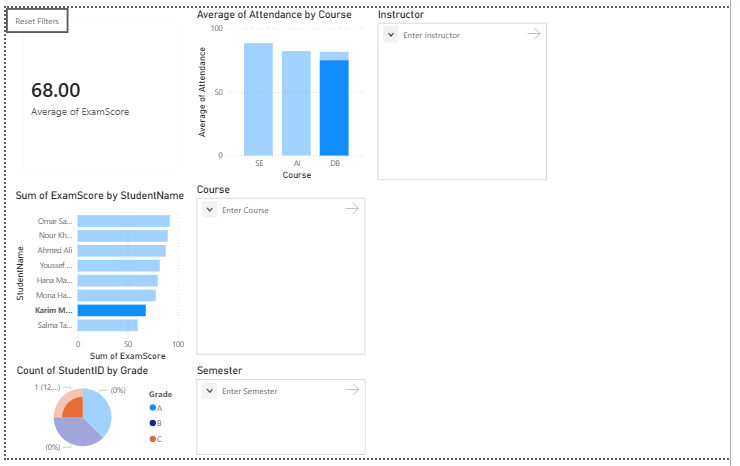

This screenshot's page, from the dashboard's own definition file:
{"tool":"powerbi","page":{"name":"Page 1","canvas":[1280,720],"ordinal":0},"visuals":[{"type":"cardVisual","fields":{"Data":["Avg(Data.ExamScore)"]},"box":[10,0,280,280],"z":0},{"type":"clusteredBarChart","fields":{"Category":["Data.StudentName"],"Y":["Sum(Data.ExamScore)"]},"box":[10,290,280,280],"z":1},{"type":"pieChart","fields":{"Category":["Data.Grade"],"Y":["CountNonNull(Data.StudentID)"]},"box":[11.9,569.5,279.7,150.8],"z":2},{"type":"clusteredColumnChart","fields":{"Category":["Data.Course"],"Y":["Avg(Data.Attendance)"]},"box":[300,0,280,280],"z":3},{"type":"textSlicer","fields":{"Values":["Data.Course"]},"box":[300,279.7,279.7,279.7],"z":4},{"type":"textSlicer","fields":{"Values":["Data.Semester"]},"box":[300,570,280,150],"z":5},{"type":"textSlicer","fields":{"Values":["Data.Instructor"]},"box":[590,0,280,280],"z":6},{"type":"actionButton","box":[0,0,100,40],"z":7}]}

Visuals, with their boxes on the page's 1280x720 design canvas (x1, y1, x2, y2). These are canvas units, not pixel positions in the 740x466 screenshot, which may show the page scaled, cropped or inside an application window:
cardVisual - Avg(Data.ExamScore): (10,0,290,280)
clusteredBarChart - Data.StudentName x Sum(Data.ExamScore): (10,290,290,570)
pieChart - Data.Grade x CountNonNull(Data.StudentID): (12,570,292,720)
clusteredColumnChart - Data.Course x Avg(Data.Attendance): (300,0,580,280)
textSlicer - Data.Course: (300,280,580,559)
textSlicer - Data.Semester: (300,570,580,720)
textSlicer - Data.Instructor: (590,0,870,280)
actionButton: (0,0,100,40)
